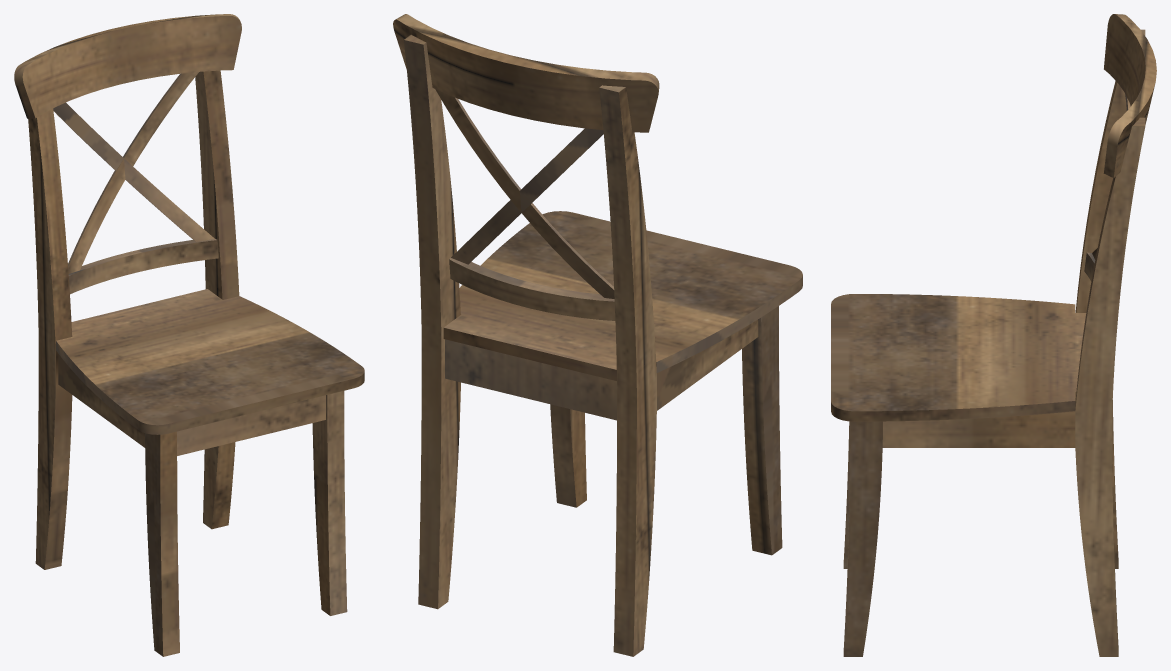
3 views of the same model, side by side, from view 1: azimuth 30°, elevation 25°; view 2: azimuth 150°, elevation 25°; view 3: azimuth 270°, elevation 25° (orthographic). The views are drawn at different scales.
Visible parts, largest first — view 1: tv_0; view 2: tv_0; view 3: tv_0.
Boxes of the visible parts, x1,y1,x2,y2 form: tv_0: (14, 14, 364, 656); tv_0: (393, 14, 802, 656); tv_0: (831, 14, 1156, 656).
Bounding box in the file's own units: 0.5031 × 1.06 × 0.5807.
Materials: 1 (1 with a texture image).
